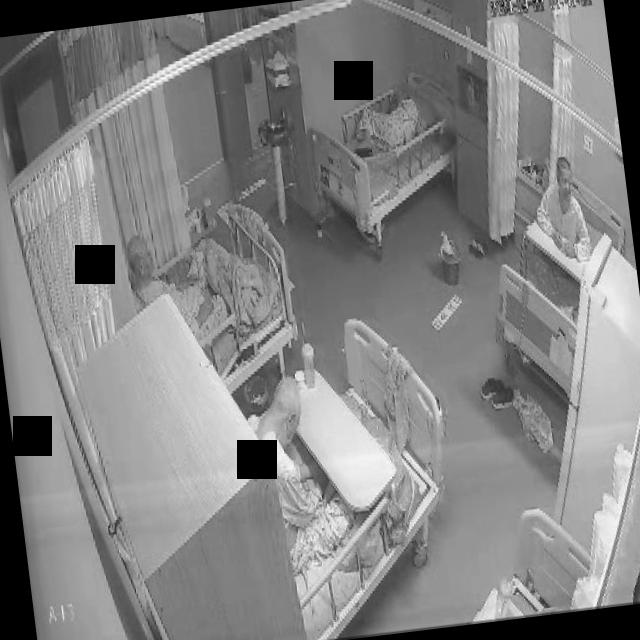bed: (254, 311, 465, 640), (479, 168, 640, 407), (156, 200, 303, 404), (303, 67, 462, 238)
lie: (347, 88, 427, 168)
patient: (242, 370, 360, 576), (122, 216, 225, 346), (528, 158, 594, 267), (347, 88, 428, 167)
sit: (240, 370, 360, 579), (120, 216, 224, 344), (528, 157, 592, 266)
